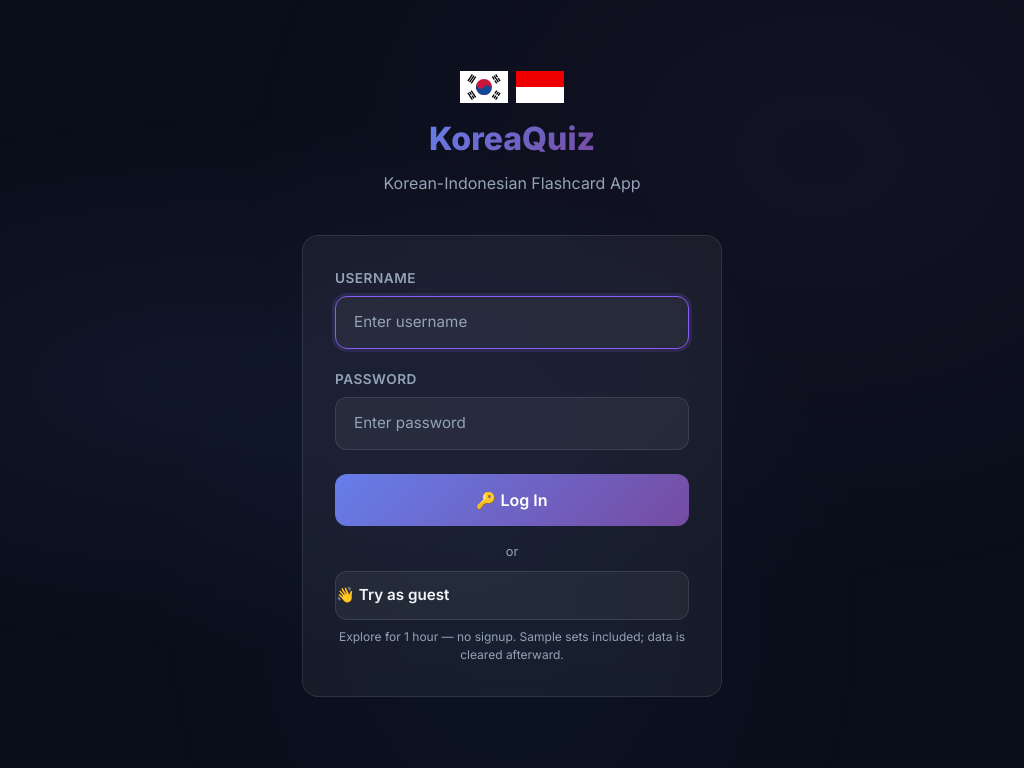
Scenario: LoginPage — error display › clears previous error message on a new submit attempt
Type "user" into the field with placeholder "Enter username" at (512, 323), box [335,296,689,349]
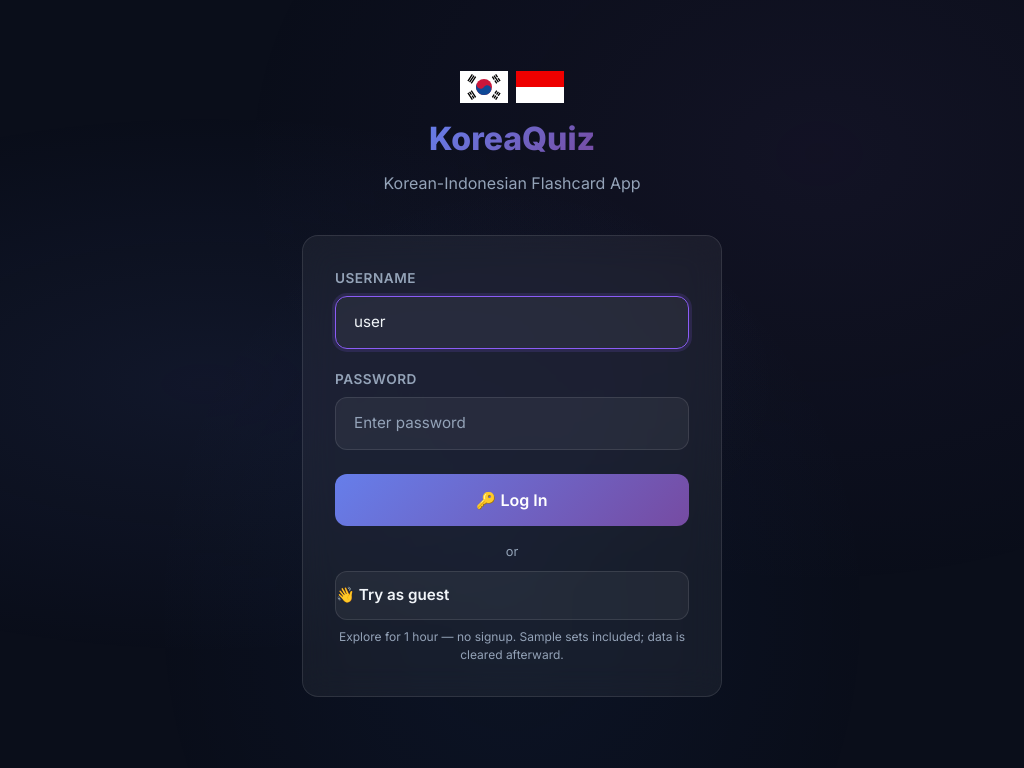
Type "pass" into the password field with placeholder "Enter password" at (512, 424), box [335,397,689,450]
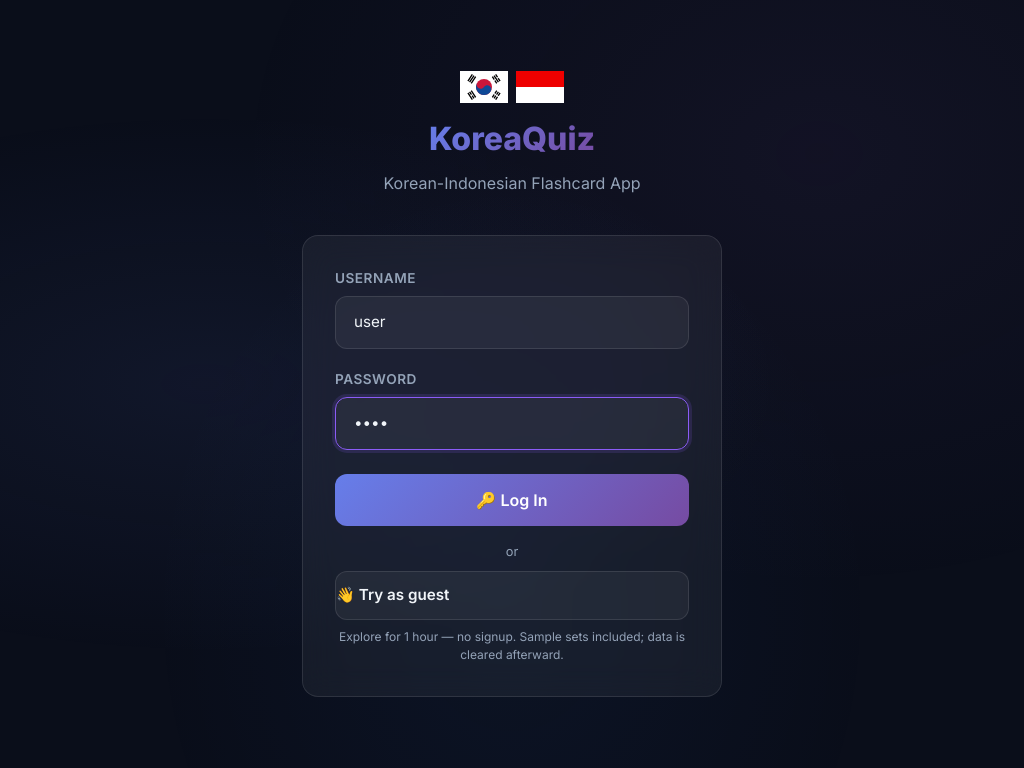
Click the button "🔑 Log In" at (512, 500), box [335,474,689,526]
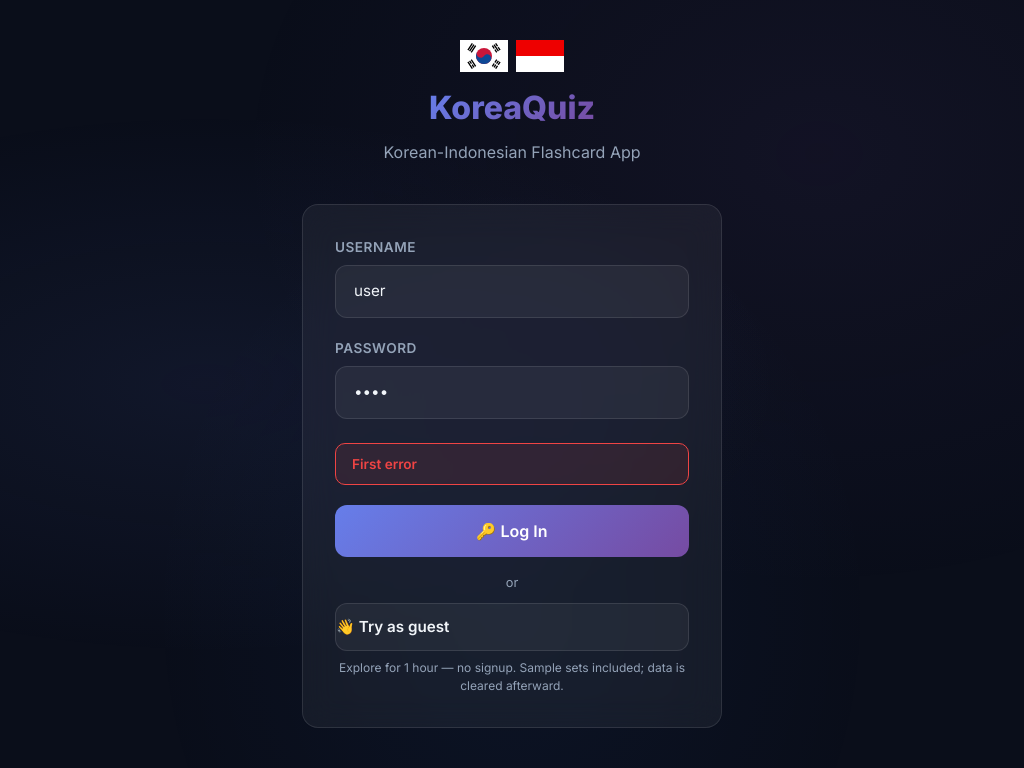
Result: the text "First error" is shown at [335,443,689,485]
Click the button "🔑 Log In" at (512, 531), box [335,505,689,557]
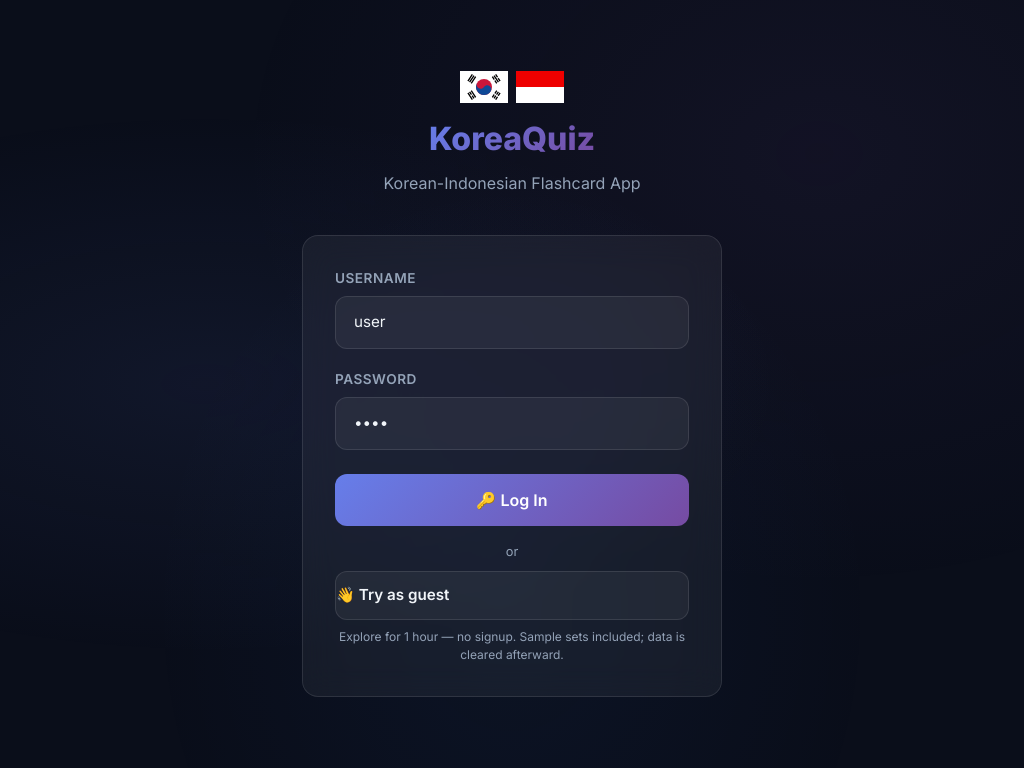
Result: the text "First error" is gone
